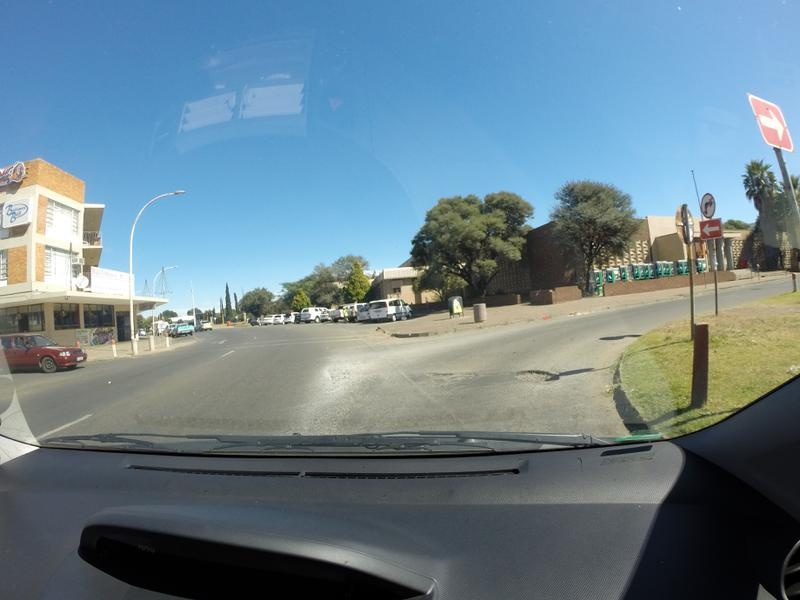pothole: (511, 365, 564, 384), (430, 370, 472, 382)
